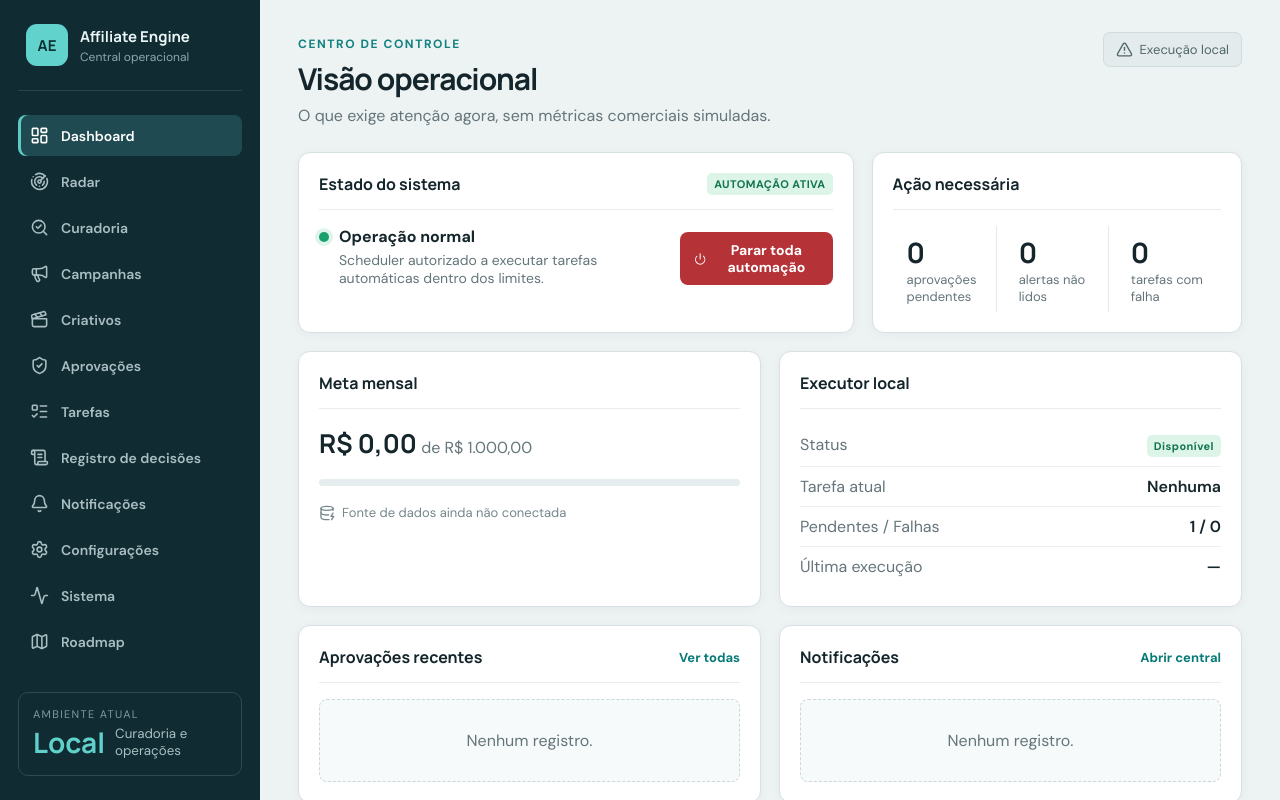
Dashboard › pausa automação e atualiza o estado visual
Click the button "Parar toda automação" at (756, 258), box [680,232,833,285]
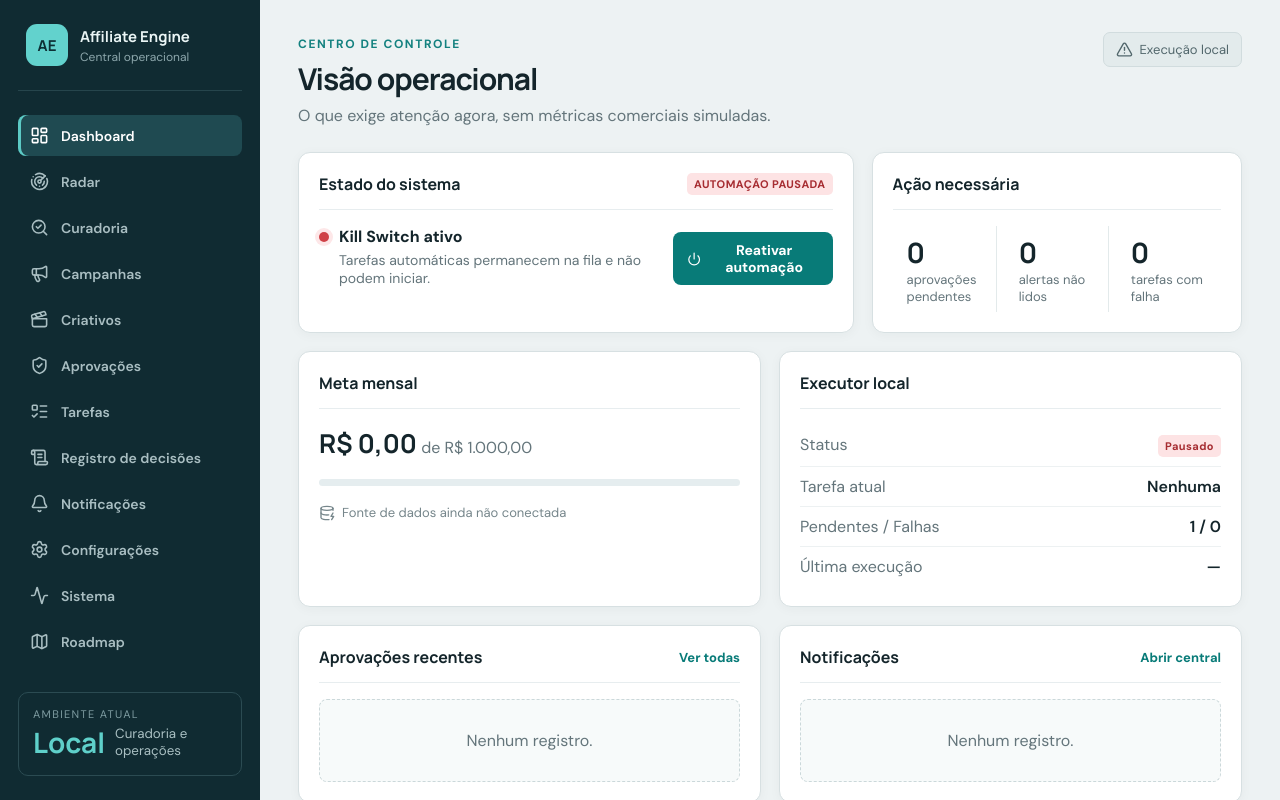
Expected: the text "AUTOMAÇÃO PAUSADA" is shown, [687,173,833,195]
Expected: the text "Pausado" is shown, [1158,435,1221,457]
